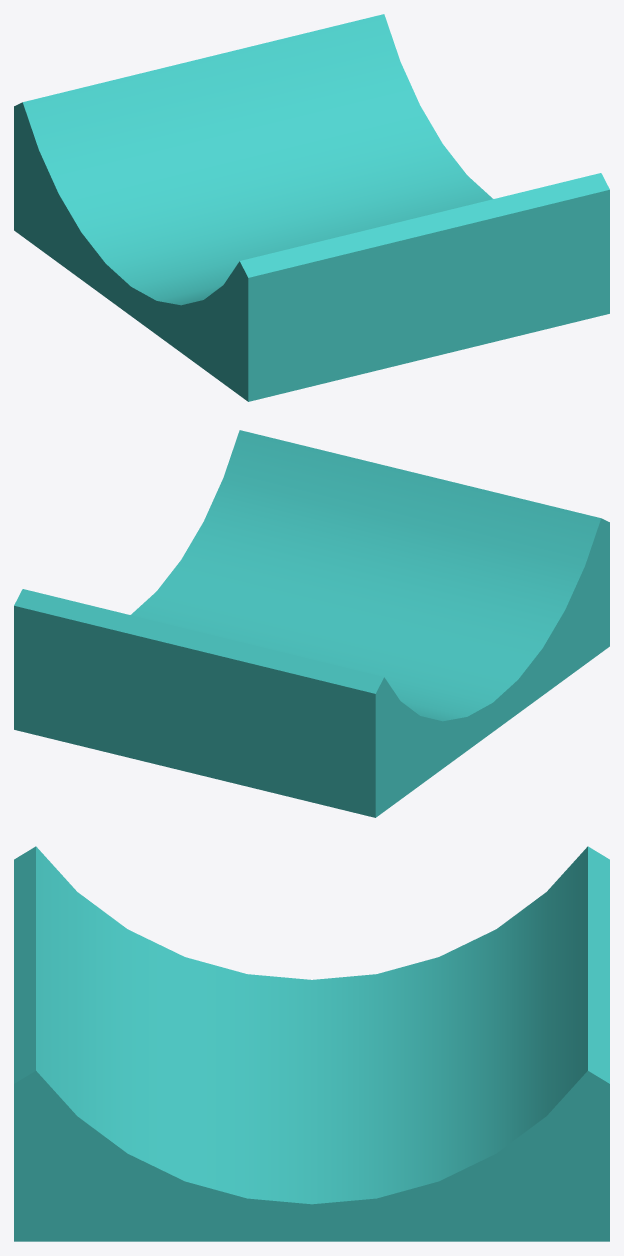
Rendered from RoundCorr_Ceiling_A.FBX.
3 renders of one model, top to bottom at view 1: azimuth 30°, elevation 25°; view 2: azimuth 150°, elevation 25°; view 3: azimuth 270°, elevation 25°, orthographic. The views are drawn at different scales.
Visible parts, largest first — view 1: RoundCorr_Ceiling_A; view 2: RoundCorr_Ceiling_A; view 3: RoundCorr_Ceiling_A.
Part boxes in pixels (x1,y1,x2,y2): RoundCorr_Ceiling_A: (14,14,609,401); RoundCorr_Ceiling_A: (14,430,609,817); RoundCorr_Ceiling_A: (14,846,609,1241).
Size of the model in its own units: 400 by 142 by 449.
